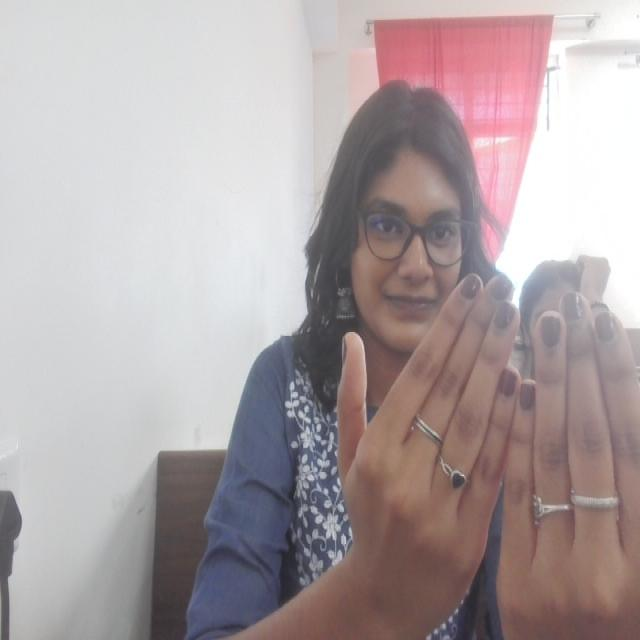thankyou: (328, 265, 640, 639)
